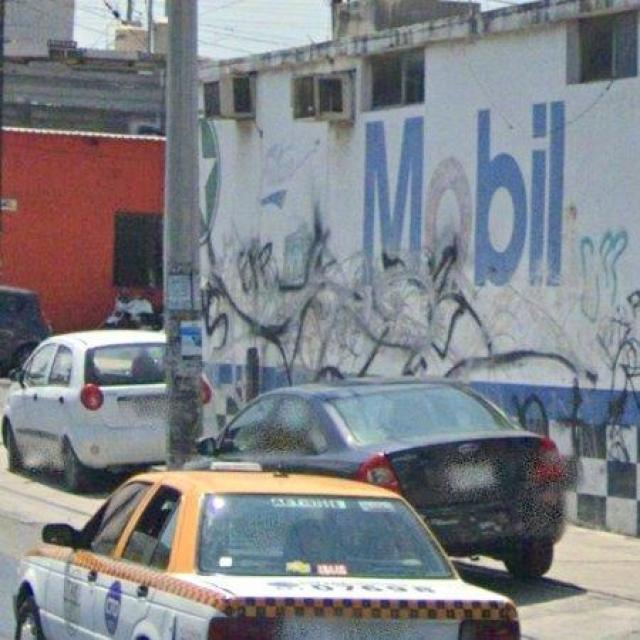Taxi: (14, 472, 522, 640)
